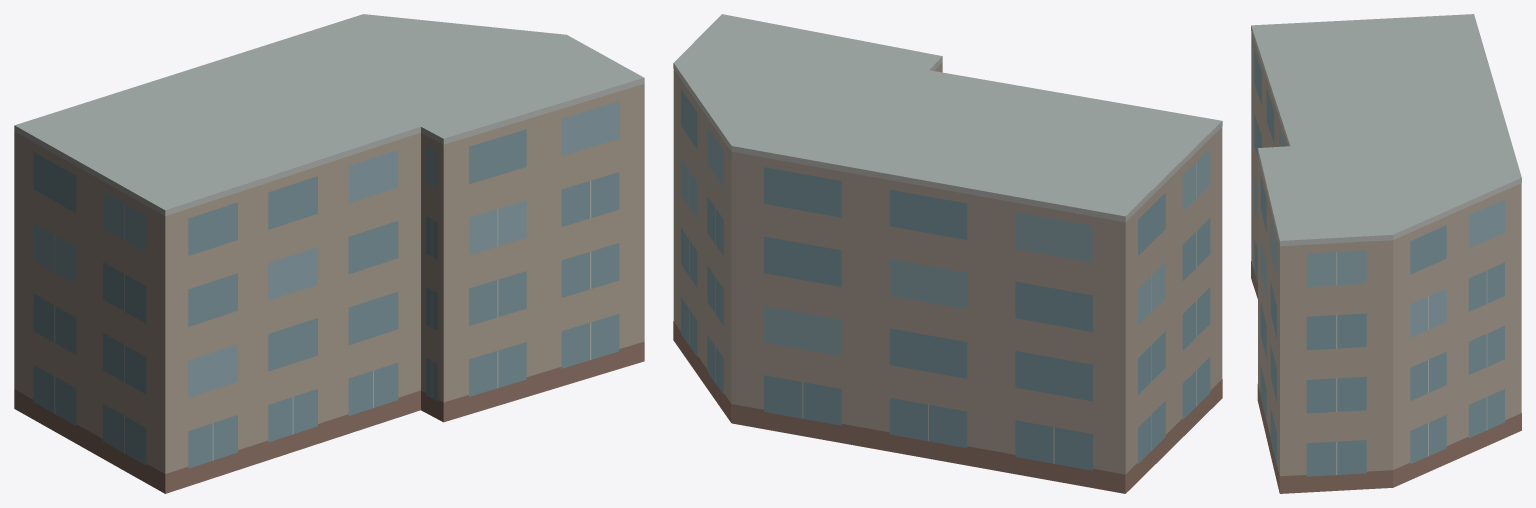
Rendered from survey-upis-32720199.glb.
The picture shows the model from 3 angles, left to right: view 1: azimuth 30°, elevation 25°; view 2: azimuth 150°, elevation 25°; view 3: azimuth 270°, elevation 25°; orthographic projection. The views are drawn at different scales.
Visible parts, largest first — view 1: survey-upis-32720199.tmp; view 2: survey-upis-32720199.tmp; view 3: survey-upis-32720199.tmp.
Boxes of the visible parts, box(x1,y1,x2,y2) form: survey-upis-32720199.tmp: box(14, 14, 644, 493); survey-upis-32720199.tmp: box(673, 14, 1222, 493); survey-upis-32720199.tmp: box(1251, 14, 1521, 493).
Bounding box in the file's own units: 22.33 × 11.6 × 11.26.
